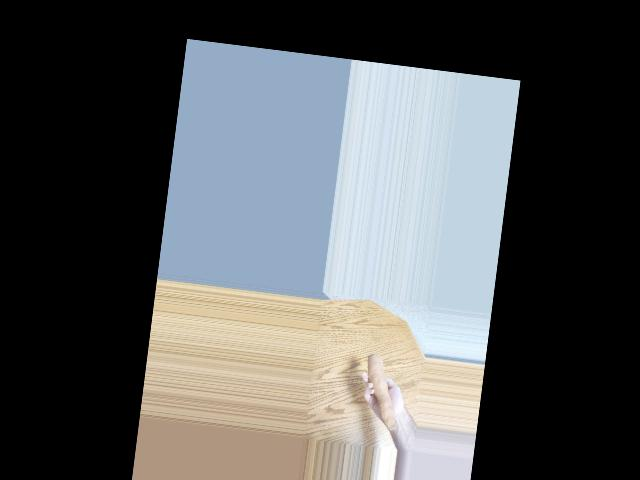sweet_potato: (364, 355, 405, 431)
